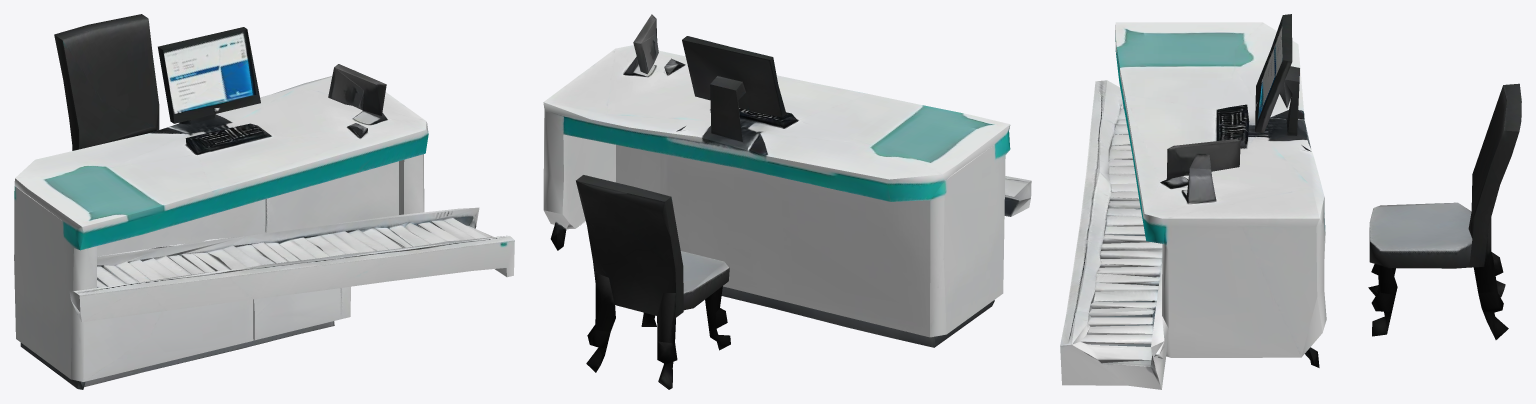
File: checkin_counter.glb
The picture shows the model from 3 angles, left to right: view 1: azimuth 30°, elevation 25°; view 2: azimuth 150°, elevation 25°; view 3: azimuth 270°, elevation 25°; orthographic projection. The views are drawn at different scales.
Parts seen in each view (by area): view 1: model; view 2: model; view 3: model.
Boxes of the visible parts, x1,y1,x2,y2 form: model: (14, 14, 514, 389); model: (543, 14, 1031, 389); model: (1060, 14, 1521, 389).
Size of the model in its own units: 1.9 by 1.1 by 1.62.
1 material, 1 textured.
